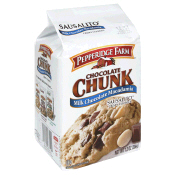grozi_70: (33, 4, 141, 170)
